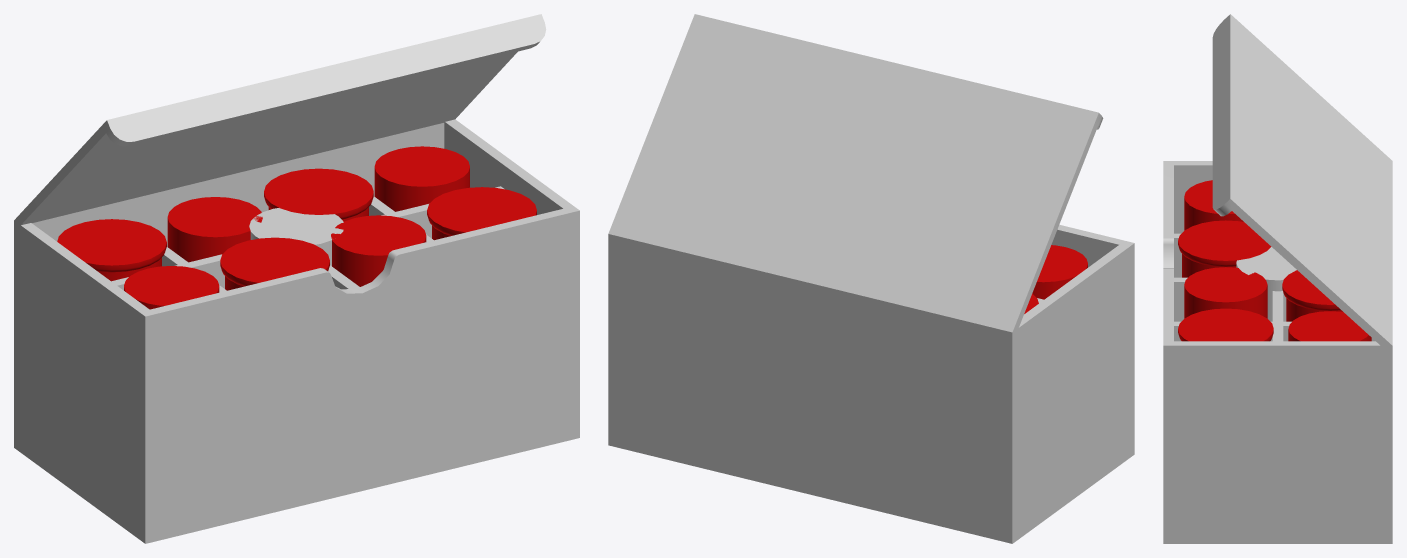
Rendered from 3Dmodel_Prop_Ammo_12gauge.fbx.
The picture shows the model from 3 angles, left to right: view 1: azimuth 30°, elevation 25°; view 2: azimuth 150°, elevation 25°; view 3: azimuth 270°, elevation 25°; orthographic projection. The views are drawn at different scales.
Parts seen in each view (by area): view 1: Prop_Ammo_12gauge_Box, Prop_Ammo_12gauge_Bullet; view 2: Prop_Ammo_12gauge_Box; view 3: Prop_Ammo_12gauge_Box, Prop_Ammo_12gauge_Bullet.
Part boxes in pixels (left/top/right/bottom): Prop_Ammo_12gauge_Box: left=14, top=14, right=579, bottom=543; Prop_Ammo_12gauge_Bullet: left=249, top=208, right=343, bottom=265; Prop_Ammo_12gauge_Box: left=608, top=14, right=1134, bottom=543; Prop_Ammo_12gauge_Box: left=1163, top=14, right=1392, bottom=543; Prop_Ammo_12gauge_Bullet: left=1236, top=247, right=1296, bottom=321.
Bounding box in the file's own units: 21 × 18.28 × 11.
